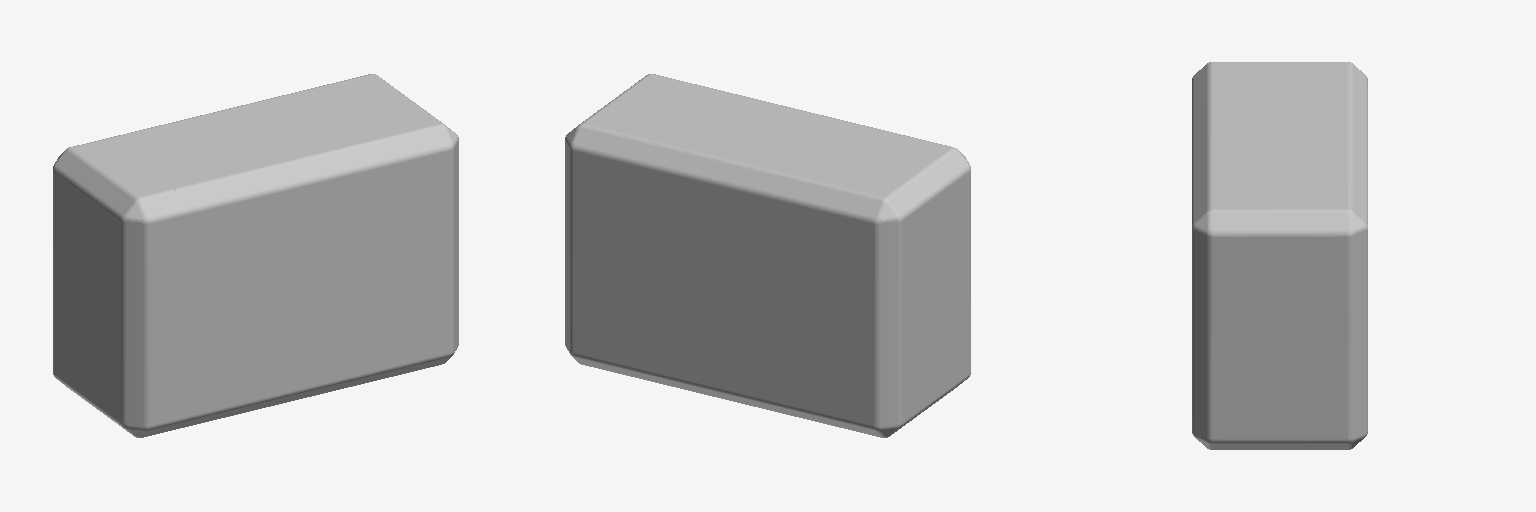
Rendered from yoga_block_04.obj.
The picture shows the model from 3 angles: view 1: azimuth 30°, elevation 25°; view 2: azimuth 150°, elevation 25°; view 3: azimuth 270°, elevation 25°; orthographic projection.
Parts seen in each view (by area): view 1: mesh13, mesh88, mesh128, mesh74, mesh76, mesh16, mesh86, mesh34, mesh137, mesh11, mesh12, mesh32 (+3 smaller); view 2: mesh115, mesh88, mesh128, mesh133, mesh139, mesh117, mesh92, mesh84, mesh137, mesh118, mesh102, mesh82 (+3 smaller); view 3: mesh39, mesh88, mesh32, mesh82, mesh78, mesh74, mesh133, mesh36, mesh44, mesh86, mesh92, mesh61 (+3 smaller).
Part boxes in pixels (bbox=[...]): mesh13: bbox=[150, 151, 449, 425]; mesh88: bbox=[73, 75, 438, 196]; mesh128: bbox=[54, 172, 120, 421]; mesh74: bbox=[142, 128, 448, 216]; mesh76: bbox=[126, 222, 142, 426]; mesh16: bbox=[149, 144, 449, 223]; mesh86: bbox=[140, 124, 441, 200]; mesh34: bbox=[143, 357, 448, 436]; mesh137: bbox=[56, 152, 133, 213]; mesh11: bbox=[143, 224, 149, 425]; mesh12: bbox=[150, 353, 449, 429]; mesh32: bbox=[454, 141, 458, 350]; mesh115: bbox=[574, 151, 873, 425]; mesh88: bbox=[585, 75, 950, 196]; mesh128: bbox=[903, 172, 969, 421]; mesh133: bbox=[575, 128, 881, 216]; mesh139: bbox=[881, 222, 897, 426]; mesh117: bbox=[574, 144, 874, 223]; mesh92: bbox=[582, 124, 883, 200]; mesh84: bbox=[575, 357, 880, 436]; mesh137: bbox=[890, 152, 967, 213]; mesh118: bbox=[874, 224, 880, 425]; mesh102: bbox=[574, 353, 873, 429]; mesh82: bbox=[565, 141, 569, 350]; mesh39: bbox=[1213, 237, 1346, 438]; mesh88: bbox=[1213, 63, 1346, 208]; mesh32: bbox=[1194, 231, 1206, 437]; mesh82: bbox=[1353, 231, 1365, 437]; mesh78: bbox=[1212, 214, 1347, 230]; mesh74: bbox=[1194, 65, 1206, 221]; mesh133: bbox=[1353, 65, 1365, 221]; mesh36: bbox=[1207, 237, 1212, 438]; mesh44: bbox=[1347, 237, 1352, 438]; mesh86: bbox=[1207, 63, 1212, 210]; mesh92: bbox=[1347, 63, 1352, 210]; mesh61: bbox=[1212, 444, 1347, 449].
Size of the model in its own units: 0.22 by 0.15 by 0.1.